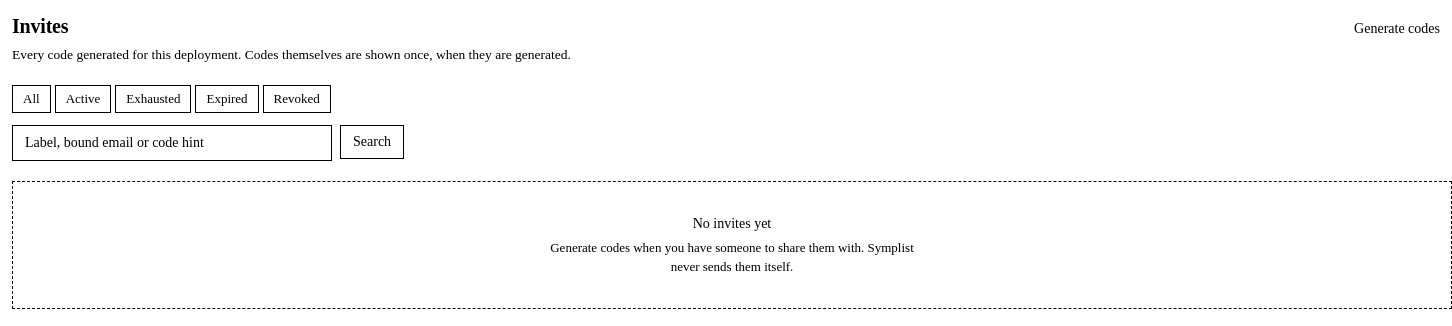
Scenario: the invite inventory (admin_invites.md) › explains an empty inventory and a filtered search with no matches
This screenshot has width=1452, height=326.
Check: the text "No invites yet" is shown, box [693,216,771,231]
Type "design" into the search field named "Search invites". click: (172, 143)
box: [12,125,332,161]
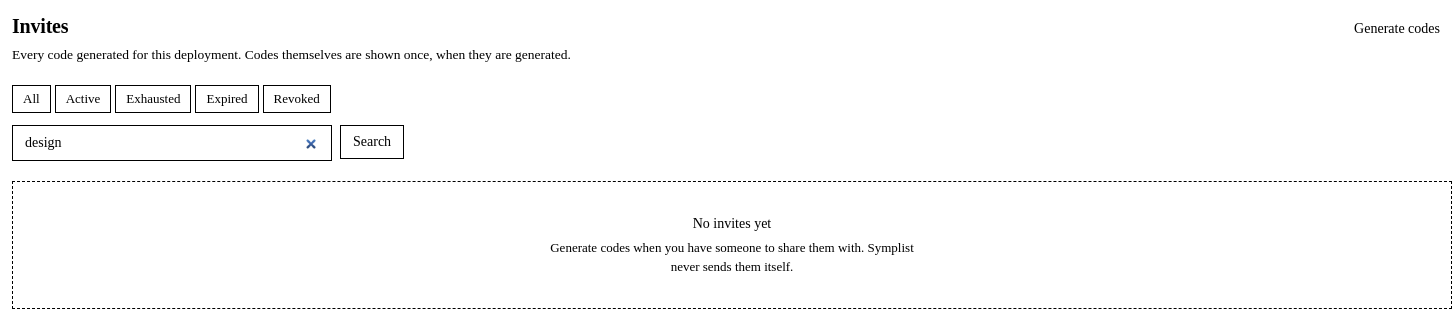
Click the button "Search". click: (372, 142)
box: [340,125,404,159]
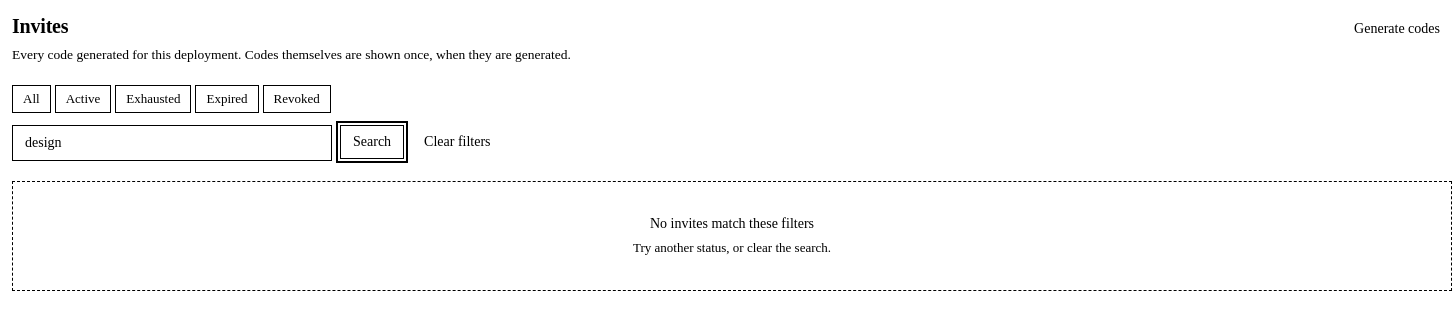
Check: the text "No invites match these filters" is shown, box [650,216,814,231]
